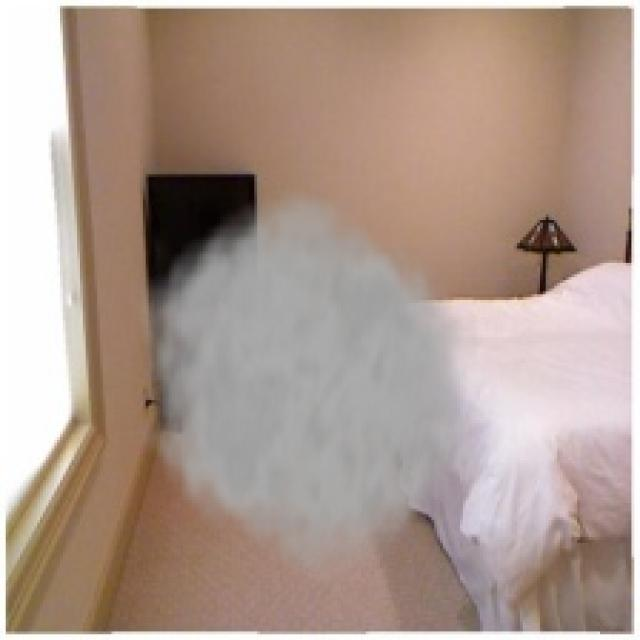smoke: (126, 180, 477, 591)
